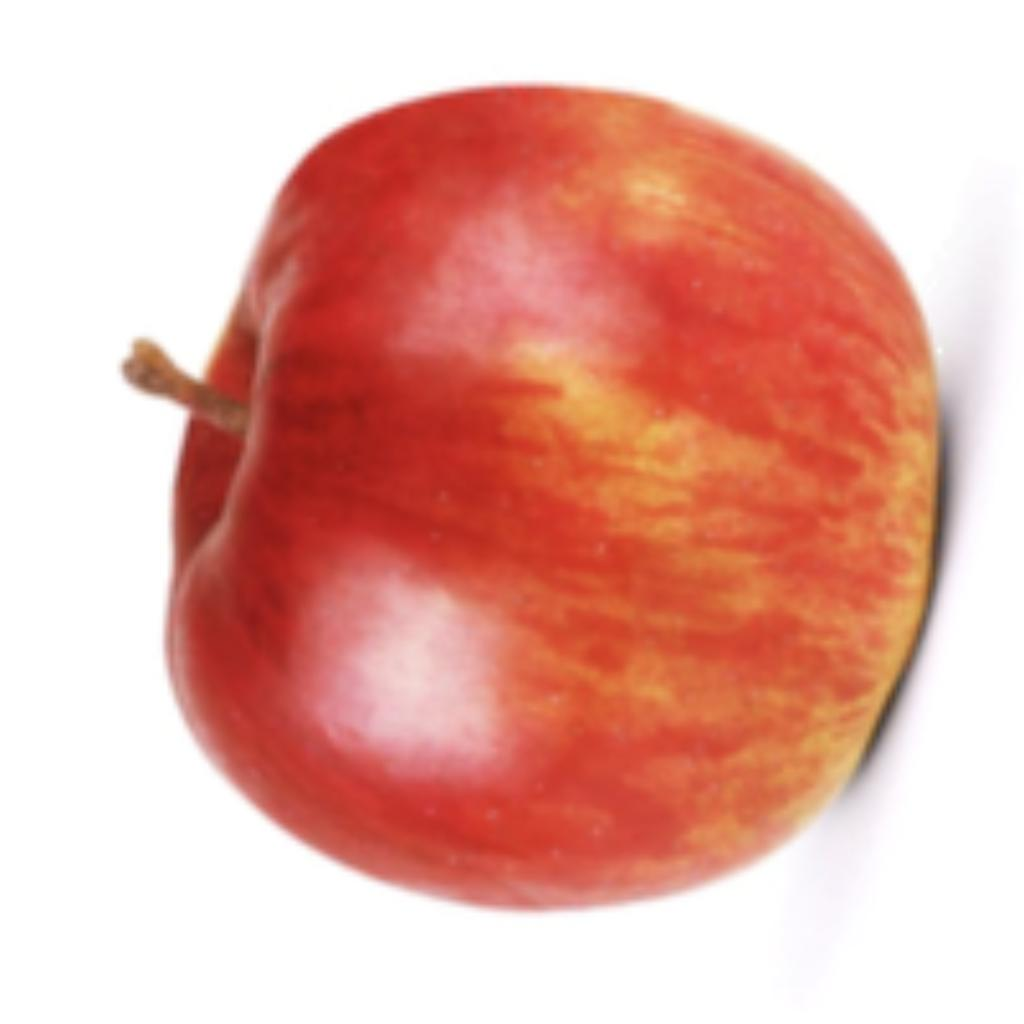apple: (113, 72, 1014, 916)
